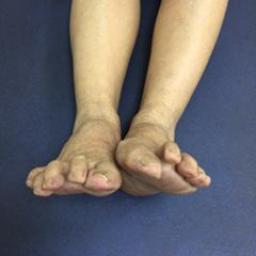Front View -Both Feet-: (17, 60, 213, 216)
